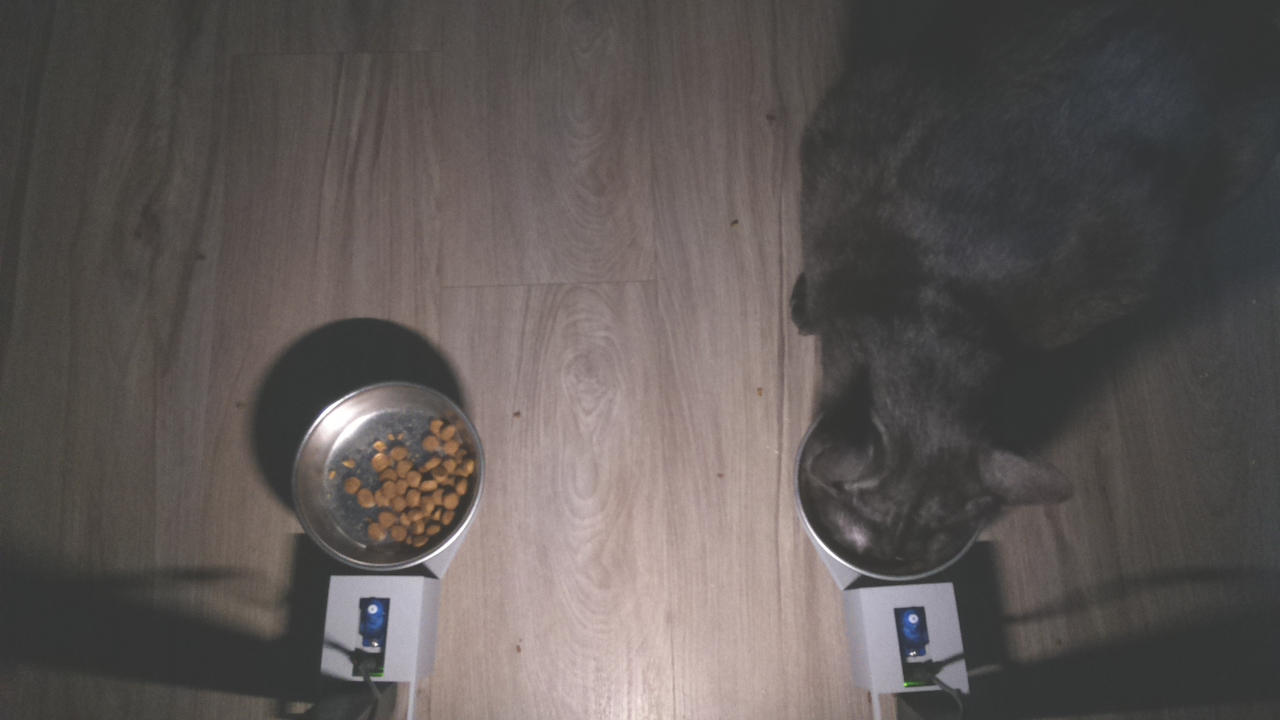open_bowl: (285, 376, 490, 576)
saki_eating: (795, 368, 1084, 575)
